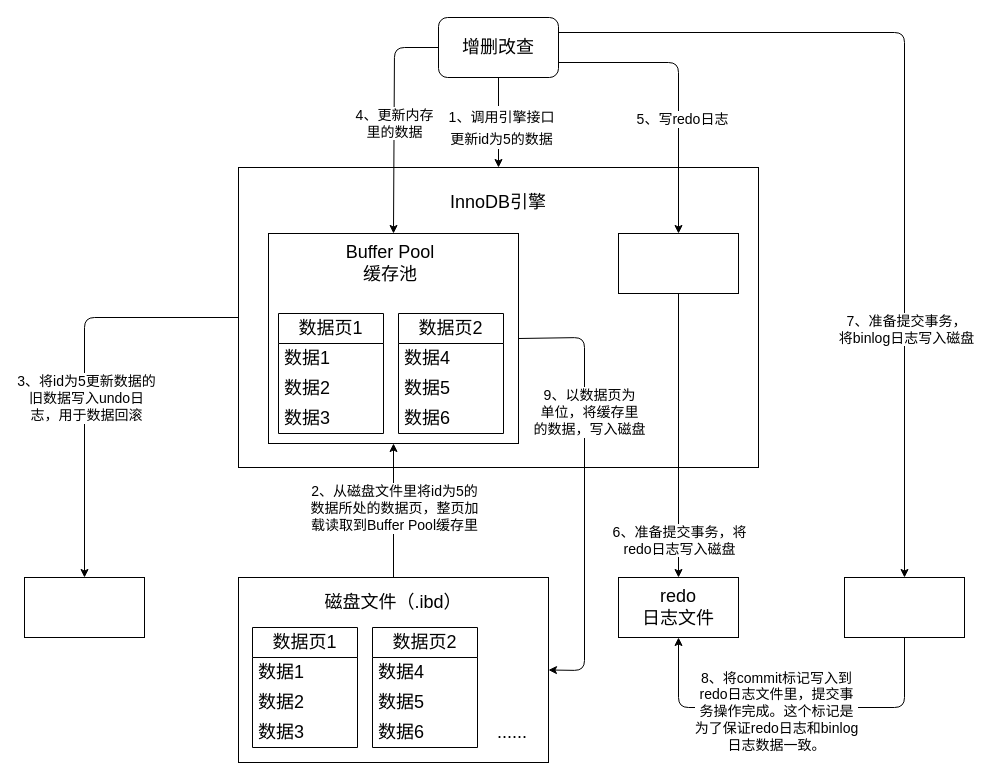
Some shapes in this 991 by 780 pixel diagram are drawn without their labels. Here are the shapes that lost their labels. From the top down, the centre of each, then its label:
point (678, 263): Redo Log Buffer
point (84, 607): undo 日志文件
point (904, 607): binlog 日志文件
